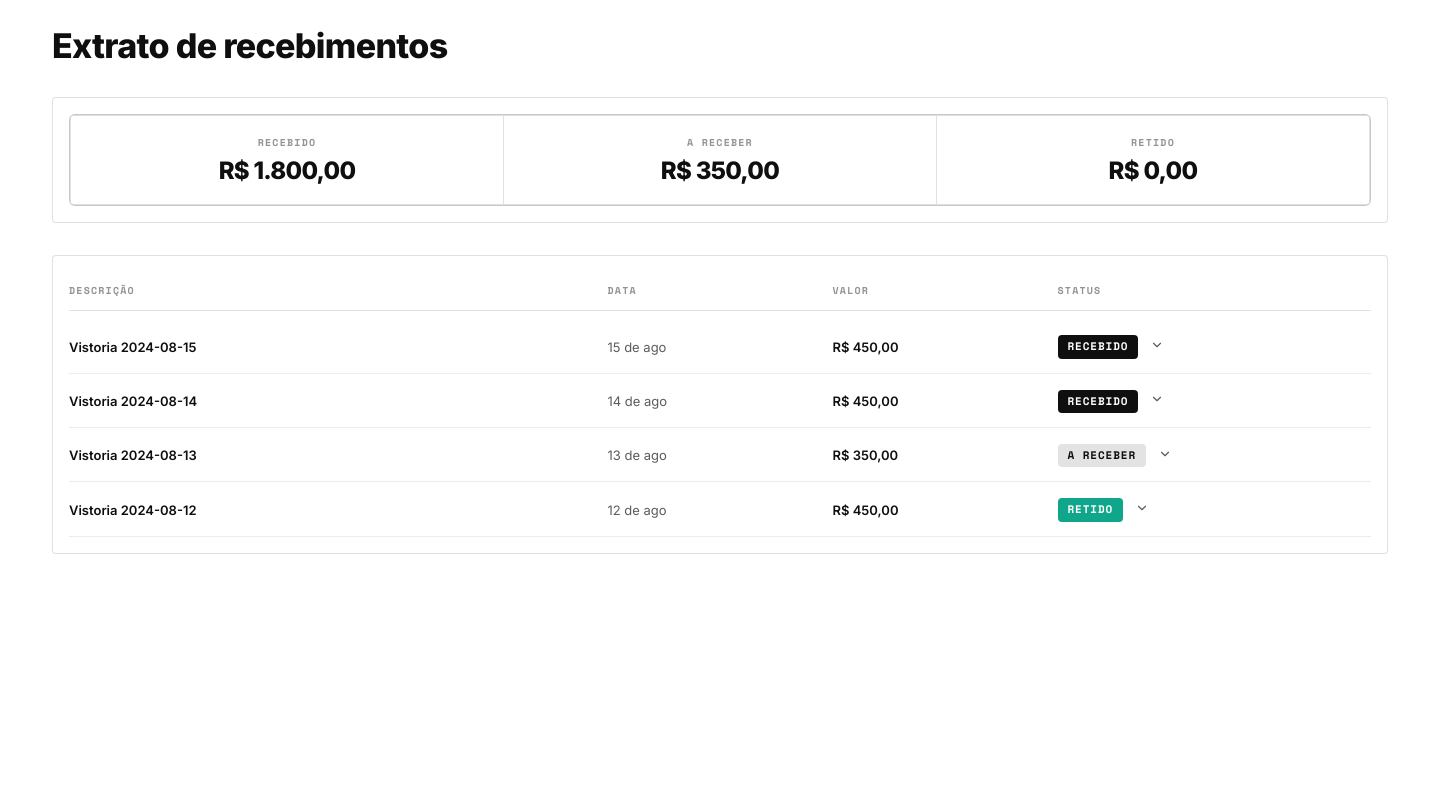
it: Earnings › expands earning details when row is clicked
Expected: the text "Vistoria 2024-08-15" is shown, [69,338,196,356]
Click the text "Vistoria 2024-08-15 15 de ago R$ 450,00 Recebido": (720, 347) [69,321,1371,374]
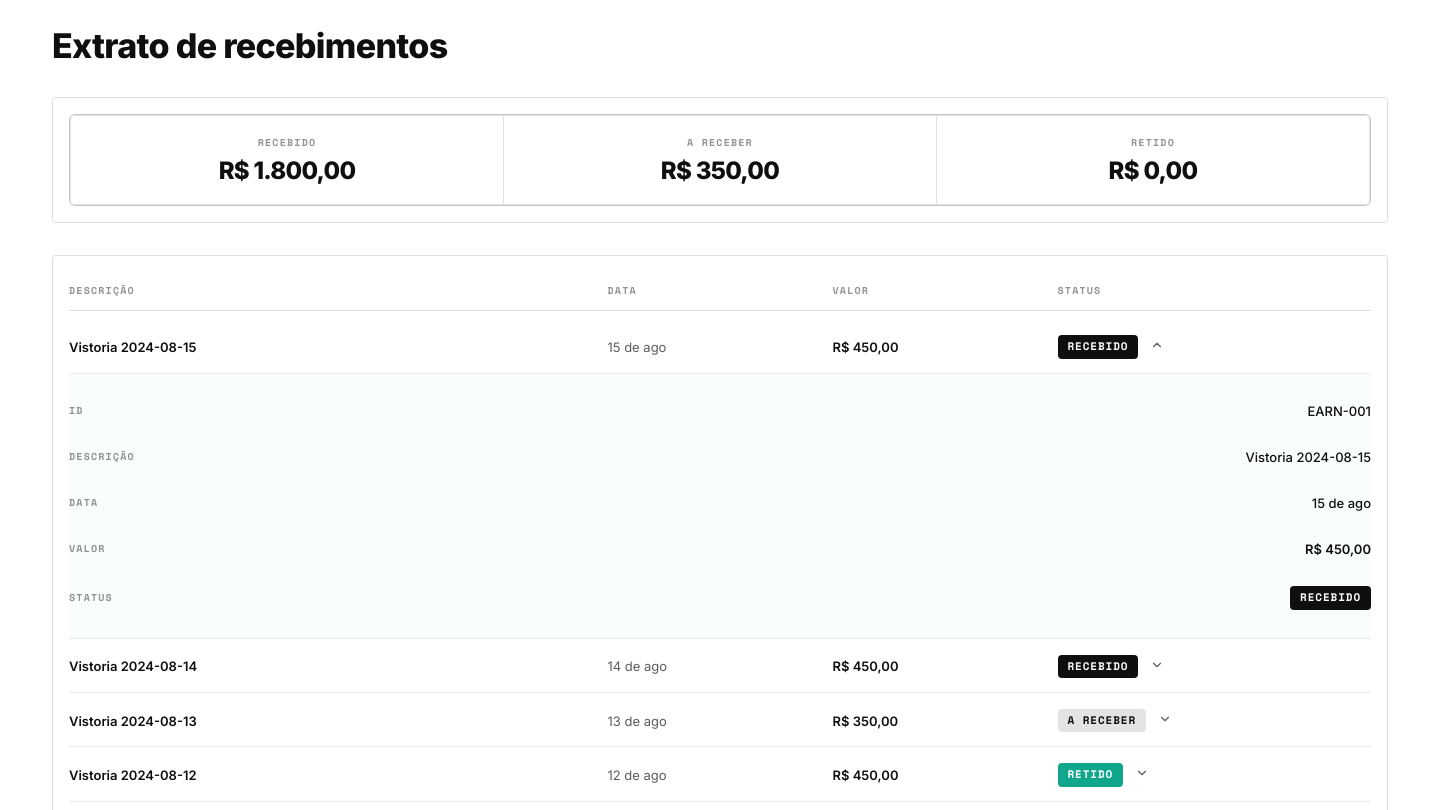
Result: the text "ID" is shown at [69,404,84,418]
